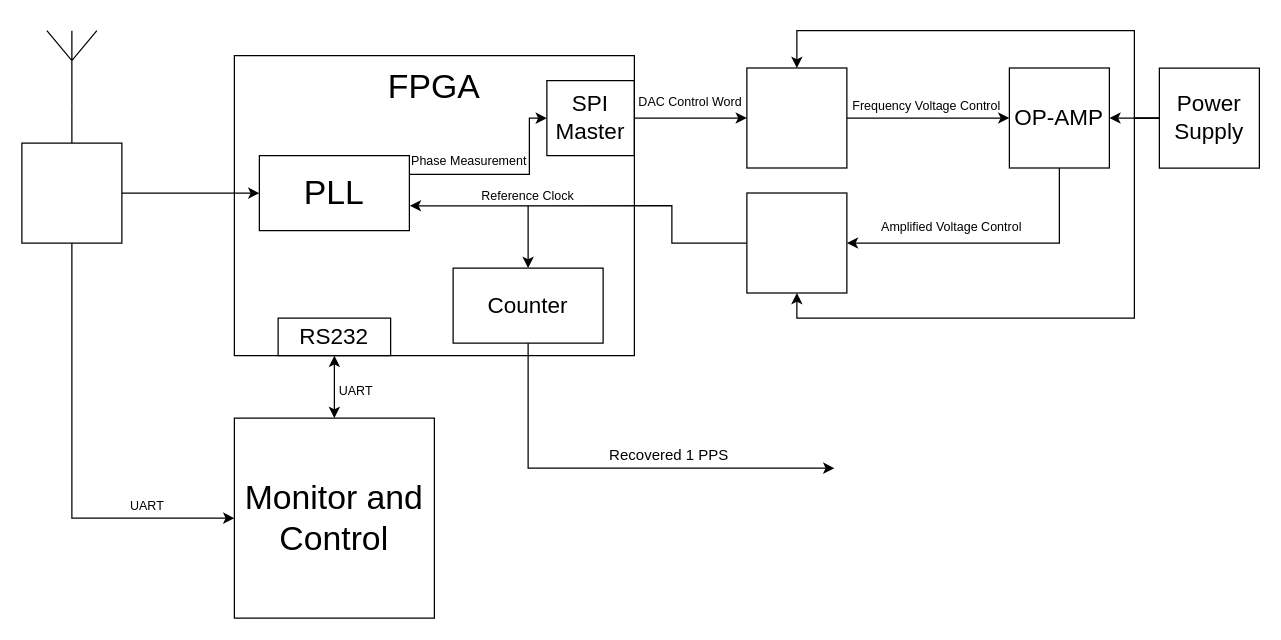
The diagram is 1281 pixels wide and 640 high, and some of its shapes have lost their labels. The box of each missing label's shape, as (x1, y1, x2, y2) in pixels:
16-Bit DAC: (746, 67, 847, 168)
GPS Receiver: (21, 142, 122, 243)
OXCO: (746, 192, 847, 293)
